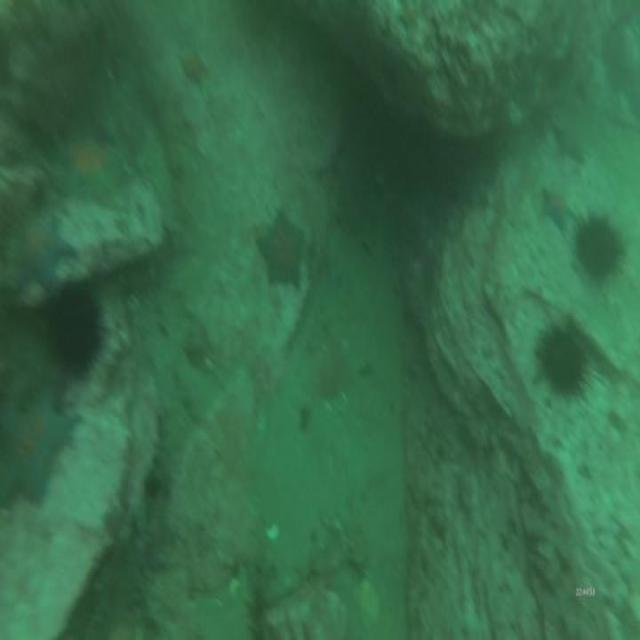echinus: (48, 274, 103, 388), (535, 314, 594, 398), (575, 207, 622, 288)
starfish: (0, 370, 79, 509), (49, 118, 123, 200), (252, 202, 312, 299), (12, 215, 76, 295), (538, 180, 580, 239), (176, 39, 212, 95), (553, 114, 589, 163)
